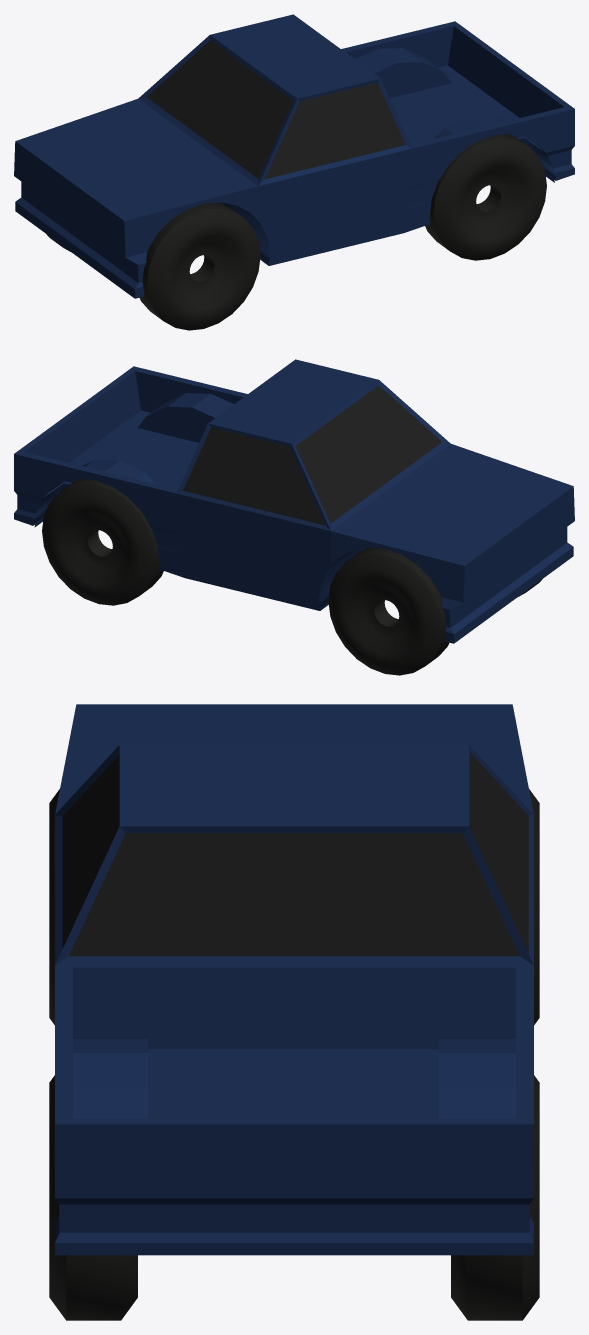
The model's file is car.fbx.
The picture shows the model from 3 angles, top to bottom: view 1: azimuth 30°, elevation 25°; view 2: azimuth 150°, elevation 25°; view 3: azimuth 270°, elevation 25°; orthographic projection. The views are drawn at different scales.
Parts seen in each view (by area): view 1: Cube.001, Torus.004, Torus, Cylinder.004, Cylinder.005; view 2: Cube.001, Torus.005, Torus.002, Cylinder.005, Cylinder.004; view 3: Cube.001, Torus.002, Torus, Cylinder.004, Cylinder.005, Torus.004, Torus.005.
Boxes of the visible parts, <box> form: Cube.001: <box>14,14,574,298</box>; Torus.004: <box>139,202,260,330</box>; Torus: <box>425,133,546,260</box>; Cylinder.004: <box>355,48,451,98</box>; Cylinder.005: <box>433,115,554,182</box>; Cube.001: <box>14,359,574,643</box>; Torus.005: <box>328,547,449,675</box>; Torus.002: <box>42,478,163,605</box>; Cylinder.005: <box>137,393,233,442</box>; Cylinder.004: <box>34,460,157,527</box>; Cube.001: <box>55,704,533,1255</box>; Torus.002: <box>451,1075,539,1320</box>; Torus: <box>49,1075,137,1320</box>; Cylinder.004: <box>439,1039,515,1118</box>; Cylinder.005: <box>73,1039,147,1118</box>; Torus.004: <box>49,789,59,1024</box>; Torus.005: <box>529,789,539,1024</box>.
Size of the model in its own units: 22.04 by 9.19 by 10.51.
